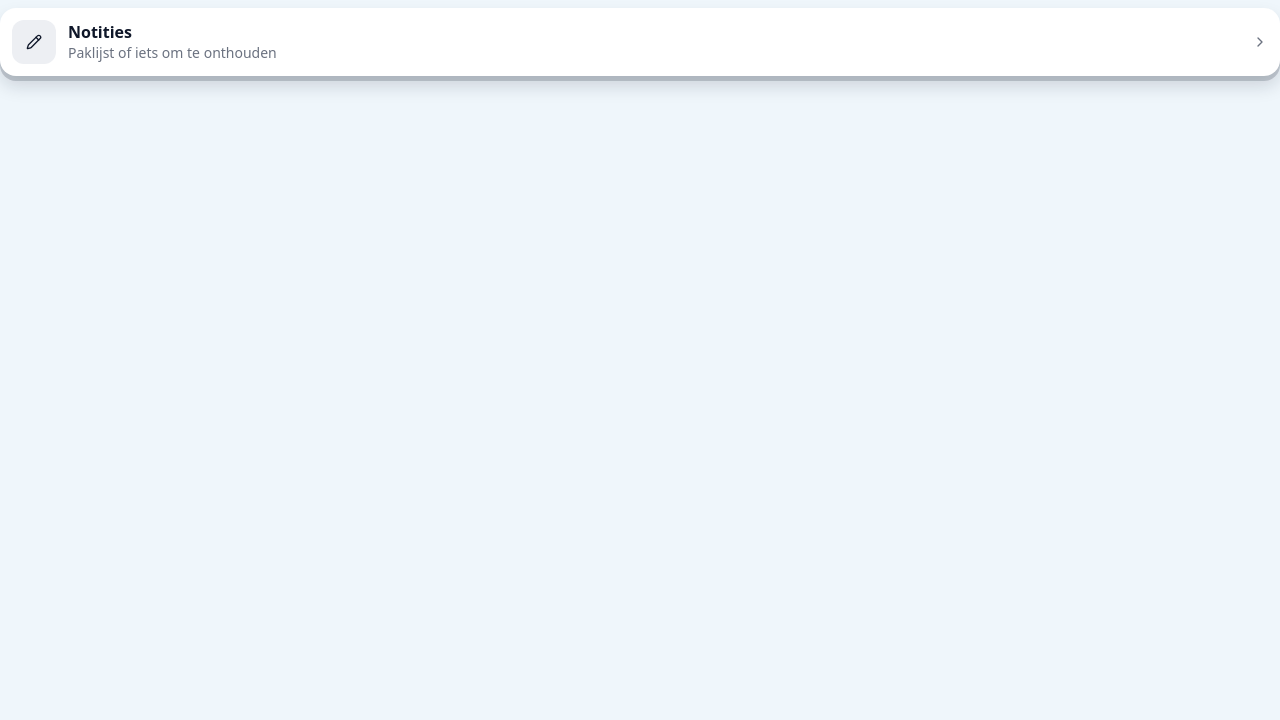
Scenario: empty documents › shows no add action for an archived trip
This screenshot has width=1280, height=720.
Click the button "Notities Paklijst of iets om te onthouden" at (34, 42), box [0,8,1279,76]
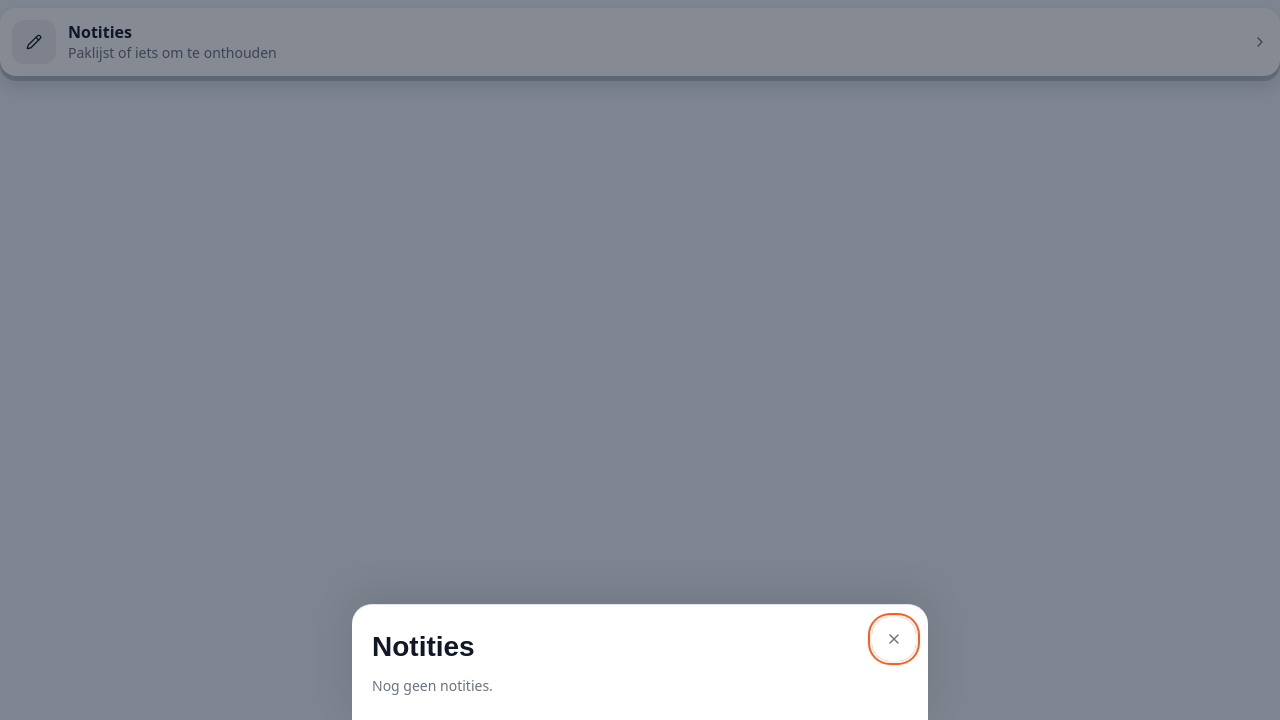
expect the text "Nog geen notities." is shown: met, box [372,676,493,695]
